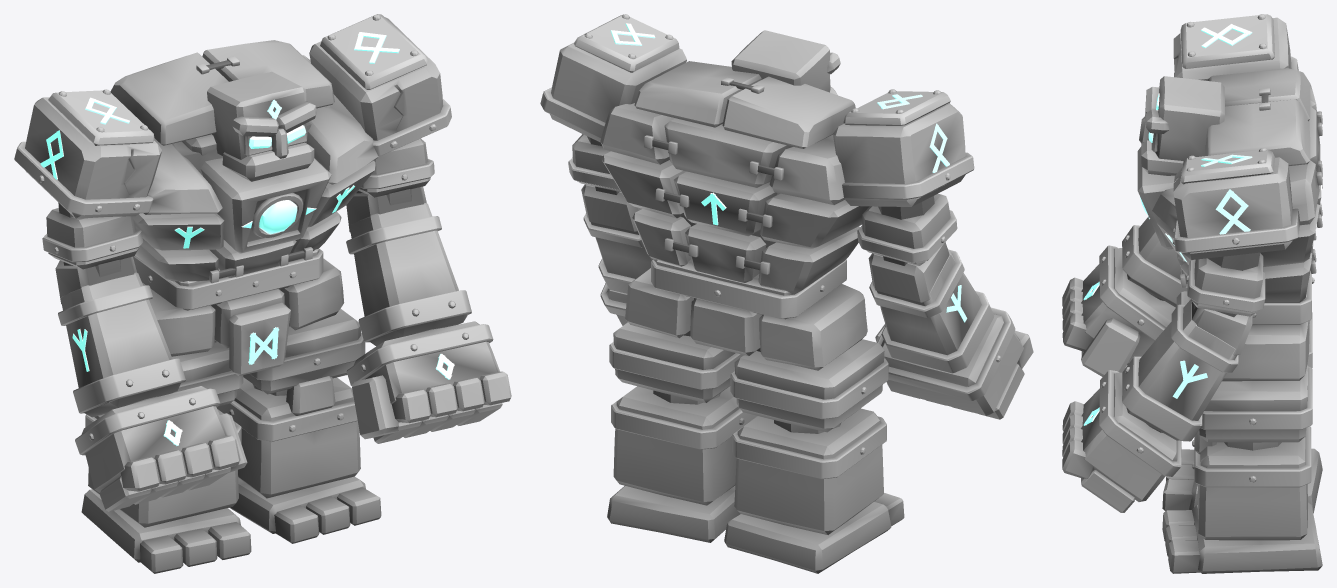
File: golem.glb
The picture shows the model from 3 angles, left to right: view 1: azimuth 30°, elevation 25°; view 2: azimuth 150°, elevation 25°; view 3: azimuth 270°, elevation 25°; orthographic projection. The views are drawn at different scales.
Visible parts, largest first — view 1: Golem; view 2: Golem; view 3: Golem.
Boxes of the visible parts, bbox=[...] form: Golem: bbox=[14, 14, 511, 573]; Golem: bbox=[540, 14, 1033, 573]; Golem: bbox=[1062, 14, 1322, 573].
Size of the model in its own units: 0.8906 by 1.01 by 0.5461.
